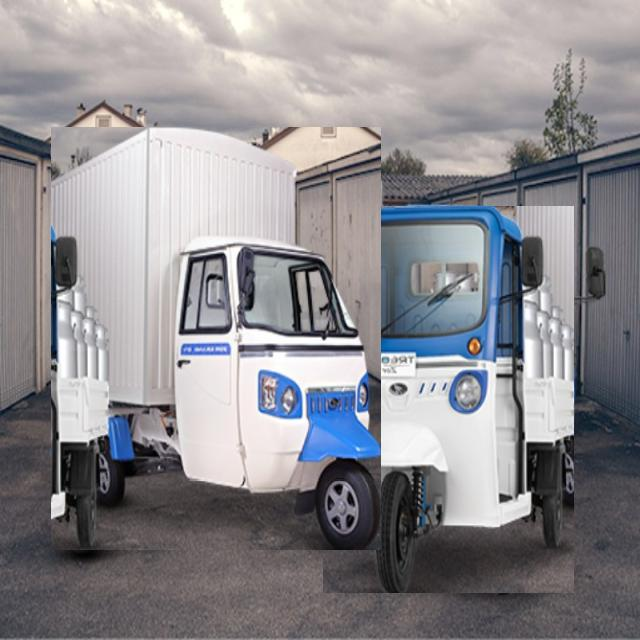truck: (51, 128, 381, 550), (324, 206, 574, 593)
